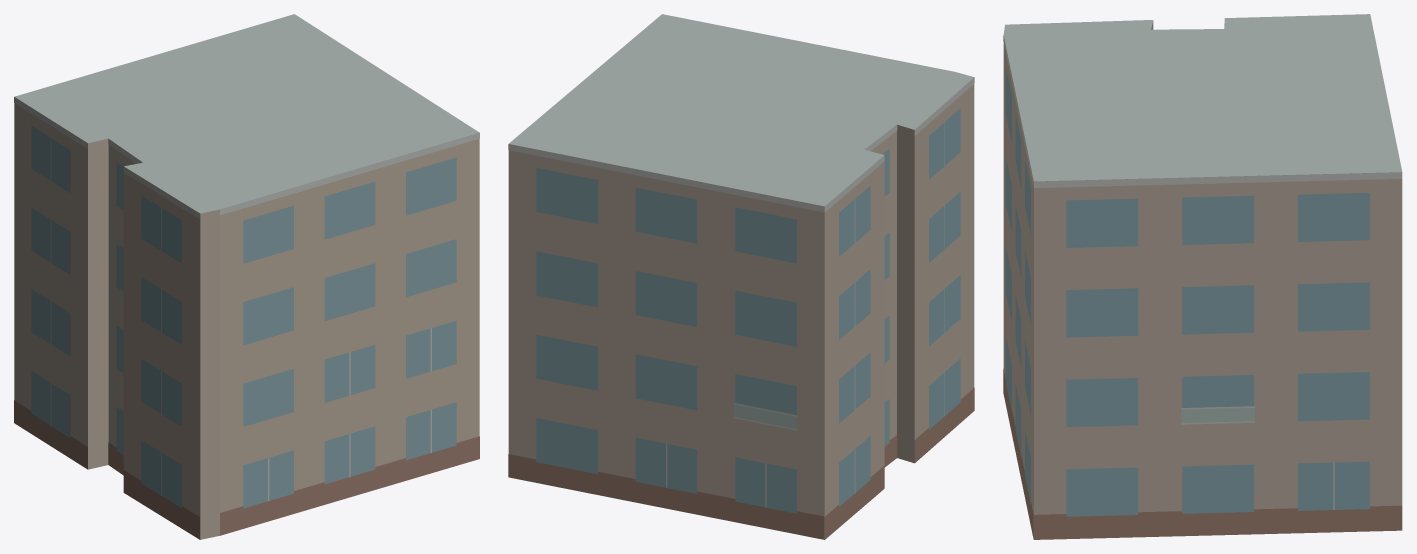
File: survey-upis-32777985.glb
The picture shows the model from 3 angles, left to right: view 1: azimuth 30°, elevation 25°; view 2: azimuth 150°, elevation 25°; view 3: azimuth 270°, elevation 25°; orthographic projection. The views are drawn at different scales.
Parts seen in each view (by area): view 1: survey-upis-32777985.tmp; view 2: survey-upis-32777985.tmp; view 3: survey-upis-32777985.tmp.
Part boxes in pixels (x1,y1,x2,y2): survey-upis-32777985.tmp: (14, 14, 479, 539); survey-upis-32777985.tmp: (508, 14, 974, 539); survey-upis-32777985.tmp: (1003, 14, 1402, 539).
Bounding box in the file's own units: 13.13 × 13.1 × 13.22.
